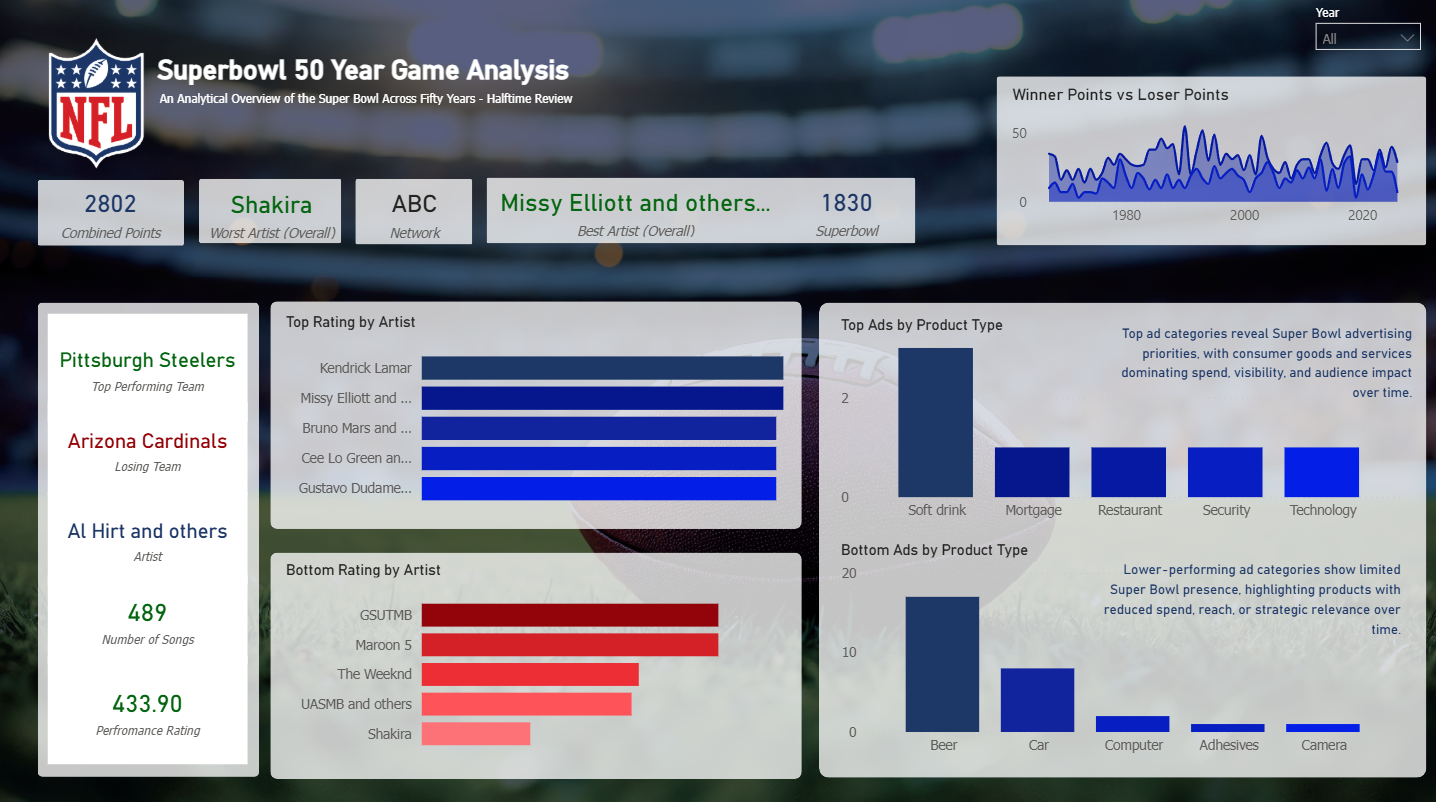

The dashboard page shown, as its layout file describes it:
{"tool":"powerbi","page":{"name":"Halftime Review","canvas":[1280,720],"ordinal":1},"visuals":[{"type":"image","box":[0,0,1280,721.2],"z":0},{"type":"textbox","box":[135.3,47.5,430.7,41.5],"z":1000},{"type":"shape","box":[34,272.9,196.8,421.7],"z":2000},{"type":"shape","box":[34,164,130,58.6],"z":3000},{"type":"slicer","fields":{"Values":["super_bowls_final.date.Variation.Date Hierarchy.Year"]},"box":[1165.4,19.9,103.1,36.3],"z":4000},{"type":"card","fields":{"Values":["Sum(super_bowls_final.combined_pts)"]},"box":[39.8,162.8,118.3,58.6],"z":5000},{"type":"shape","box":[178.1,163.3,126.6,57.4],"z":6000},{"type":"card","fields":{"Values":["Measures_Table.Worst Artist (Overall)"]},"box":[179.5,163.3,125.1,58.9],"z":7000},{"type":"shape","box":[317,163.8,104.2,58.6],"z":8000},{"type":"shape","box":[241.2,272.5,472.5,202.5],"z":9000},{"type":"card","fields":{"Values":["Min(tv_final_fixed.network)"]},"box":[326.4,163.8,85.5,58.6],"z":10000},{"type":"shape","box":[433.8,162.5,381.2,58.8],"z":11000},{"type":"card","fields":{"Values":["Measures_Table.Best Artist (Overall)"]},"box":[438.8,162.5,253.8,57.5],"z":12000},{"type":"card","fields":{"Values":["Sum(super_bowls_final.super_bowl)"]},"box":[692.5,162.5,122.5,58.8],"z":13000},{"type":"textbox","box":[137.5,76.4,491.4,42.3],"z":14000},{"type":"card","fields":{"Values":["Measures_Table.Top Performing Team"]},"box":[43.8,283.8,177.5,96.2],"z":15000},{"type":"card","fields":{"Values":["Min(halftime_musician_final.artist)"]},"box":[43.8,442.5,177.5,81.2],"z":16000},{"type":"card","fields":{"Values":["Sum(halftime_musician_final.num_songs)"]},"box":[43.8,515,177.5,78.8],"z":17000},{"type":"card","fields":{"Values":["Min(super_bowls_final.team_loser)"]},"box":[43.8,362.5,177.5,81.2],"z":18000},{"type":"shape","box":[241.2,495,472.5,201.2],"z":19000},{"type":"shape","box":[728.8,273.8,540,422.5],"z":20000},{"type":"shape","box":[886.4,71.7,382.1,150.5],"z":21000},{"type":"textbox","box":[1165,0,103.5,37.6],"z":22000},{"type":"areaChart","title":"Winner Points vs Loser Points","fields":{"Category":["superbowl_final_dates_fixed.Date.Variation.Date Hierarchy.Year","superbowl_final_dates_fixed.Date.Variation.Date Hierarchy.Month"],"Y":["Sum(superbowl_final_dates_fixed.Winner Pts)","Sum(superbowl_final_dates_fixed.Loser Pts)"]},"box":[895.8,79.9,365.6,134],"z":23000},{"type":"card","fields":{"Values":["Sum(halftime_musician_final.performance_rating)"]},"box":[43.8,587.5,177.5,96.2],"z":24000},{"type":"clusteredBarChart","title":"Bottom Rating by Artist","fields":{"Category":["Bottom 5 Artists.artist"],"Y":["Sum(Bottom 5 Artists.AvgRating)"]},"box":[250,503.8,452.5,180],"z":25000},{"type":"clusteredBarChart","title":"Top Rating by Artist","fields":{"Category":["Top 5 Artists.artist"],"Y":["Sum(Top 5 Artists.AvgRating)"]},"box":[250,283.8,452.5,182.5],"z":26000},{"type":"columnChart","title":"Top Ads by Product Type","fields":{"Y":["CountNonNull(superbowl_ads_final_clean.year)"],"Category":["superbowl_ads_final_clean.Product Type"]},"box":[743.8,285,507.5,190],"z":27000},{"type":"columnChart","title":"Bottom Ads by Product Type","fields":{"Y":["CountNonNull(superbowl_ads_final_clean.year)"],"Category":["superbowl_ads_final_clean.Product Type"]},"box":[743.8,485,507.5,198.8],"z":28000},{"type":"textbox","box":[962.5,495,288.8,83.8],"z":29000},{"type":"textbox","box":[972.5,285,288.8,83.8],"z":30000}]}

Visuals, with their boxes in screenshot pixels (x1, y1, x2, y2), scaled from the page's 1280x720 canvas onto the 1436x802 screenshot:
image: (0, 0, 1435, 801)
textbox: (152, 53, 635, 99)
shape: (38, 304, 259, 774)
shape: (38, 183, 184, 248)
slicer - super_bowls_final.date.Variation.Date Hierarchy.Year: (1307, 22, 1423, 63)
card - Sum(super_bowls_final.combined_pts): (45, 181, 177, 247)
shape: (200, 182, 342, 246)
card - Measures_Table.Worst Artist (Overall): (201, 182, 342, 248)
shape: (356, 182, 473, 248)
shape: (271, 304, 801, 529)
card - Min(tv_final_fixed.network): (366, 182, 462, 248)
shape: (487, 181, 914, 247)
card - Measures_Table.Best Artist (Overall): (492, 181, 777, 245)
card - Sum(super_bowls_final.super_bowl): (777, 181, 914, 247)
textbox: (154, 85, 706, 132)
card - Measures_Table.Top Performing Team: (49, 316, 248, 423)
card - Min(halftime_musician_final.artist): (49, 493, 248, 583)
card - Sum(halftime_musician_final.num_songs): (49, 574, 248, 661)
card - Min(super_bowls_final.team_loser): (49, 404, 248, 494)
shape: (271, 551, 801, 775)
shape: (818, 305, 1423, 776)
shape: (994, 80, 1423, 248)
textbox: (1307, 0, 1423, 42)
"Winner Points vs Loser Points" areaChart: (1005, 89, 1415, 238)
card - Sum(halftime_musician_final.performance_rating): (49, 654, 248, 762)
"Bottom Rating by Artist" clusteredBarChart: (280, 561, 788, 762)
"Top Rating by Artist" clusteredBarChart: (280, 316, 788, 519)
"Top Ads by Product Type" columnChart: (834, 317, 1404, 529)
"Bottom Ads by Product Type" columnChart: (834, 540, 1404, 762)
textbox: (1080, 551, 1404, 645)
textbox: (1091, 317, 1415, 411)
